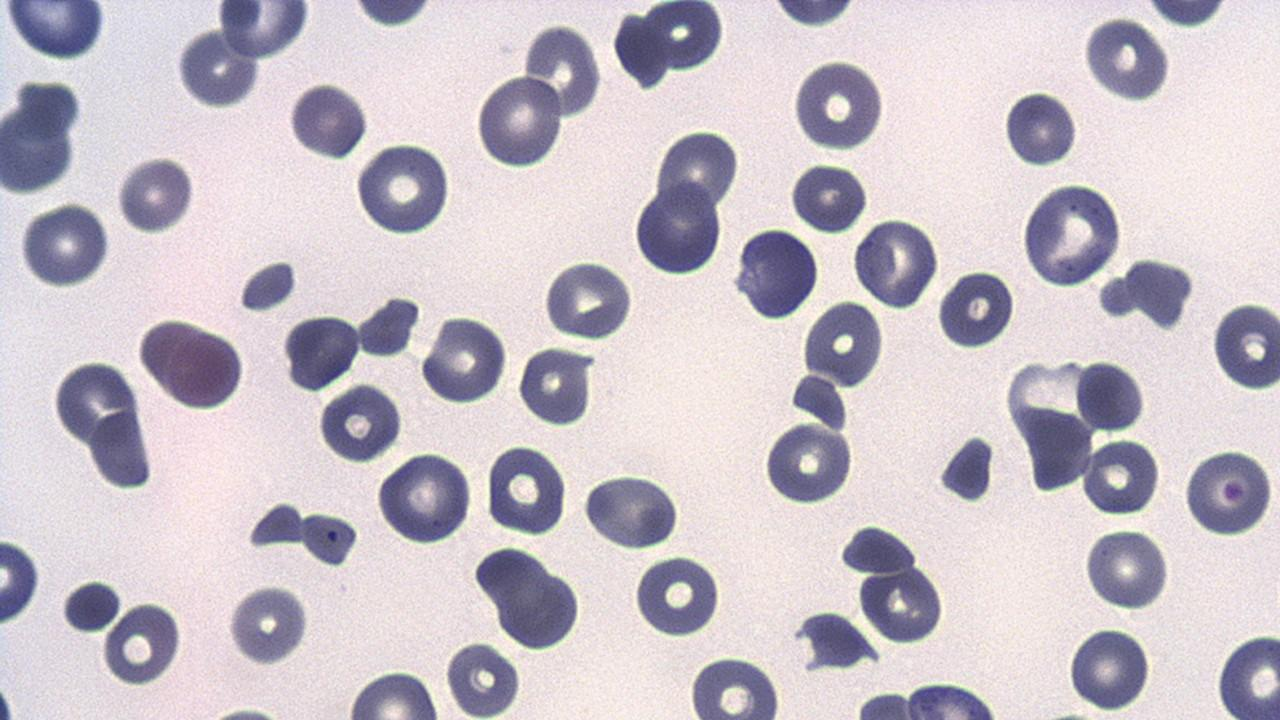Platelets: (1080, 15, 1174, 104), (582, 472, 680, 550), (100, 600, 186, 685), (113, 151, 199, 234), (286, 83, 372, 164), (1000, 86, 1080, 169), (788, 159, 872, 233), (516, 346, 594, 425), (86, 409, 157, 491), (1122, 257, 1200, 330), (838, 524, 924, 578), (936, 433, 996, 504), (300, 502, 361, 568), (57, 577, 124, 635), (235, 258, 302, 314), (240, 501, 306, 548), (1095, 274, 1139, 320)
RBC: (1020, 178, 1124, 290), (788, 55, 888, 152), (353, 140, 454, 236), (374, 450, 473, 546), (474, 69, 564, 172), (632, 178, 724, 278), (1180, 446, 1276, 540), (18, 198, 112, 291), (852, 214, 942, 311), (522, 18, 603, 124), (420, 312, 510, 406), (52, 358, 144, 448), (760, 420, 856, 506), (157, 320, 246, 412), (581, 470, 683, 550), (630, 552, 724, 638), (484, 442, 568, 538), (654, 126, 742, 217), (542, 256, 635, 342), (1083, 523, 1171, 613), (1066, 621, 1152, 713), (854, 561, 948, 645), (223, 580, 311, 668), (800, 298, 885, 389), (101, 598, 184, 688), (175, 24, 260, 111), (115, 150, 198, 237), (316, 381, 401, 464), (288, 77, 370, 163), (1210, 297, 1280, 395), (936, 266, 1016, 351), (444, 636, 526, 718), (517, 343, 594, 429), (1082, 434, 1160, 518), (283, 311, 361, 394), (3, 1, 108, 62), (788, 158, 870, 236), (1213, 624, 1279, 720), (685, 654, 786, 716), (88, 406, 157, 492), (215, 1, 312, 61), (1073, 358, 1147, 435), (342, 666, 444, 718), (0, 535, 42, 627), (298, 509, 361, 570)
WBC: (0, 0, 863, 720), (828, 227, 1275, 715), (471, 543, 586, 653), (1019, 177, 1129, 290), (603, 0, 735, 93), (1, 83, 90, 200), (791, 54, 886, 155), (731, 225, 824, 323), (760, 421, 859, 508), (580, 472, 686, 552), (856, 562, 948, 646), (1, 1, 111, 62), (283, 312, 362, 394), (215, 1, 312, 60), (871, 682, 1018, 720), (1131, 0, 1239, 31), (764, 0, 863, 29), (346, 0, 438, 29)
